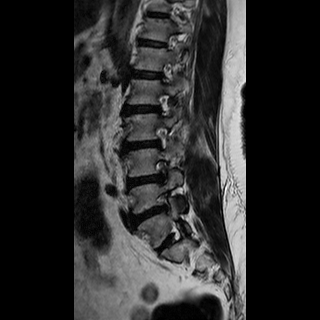LFS0: (147, 121, 171, 156)
LFS2: (149, 155, 172, 189)
LFS3: (152, 189, 177, 218)
